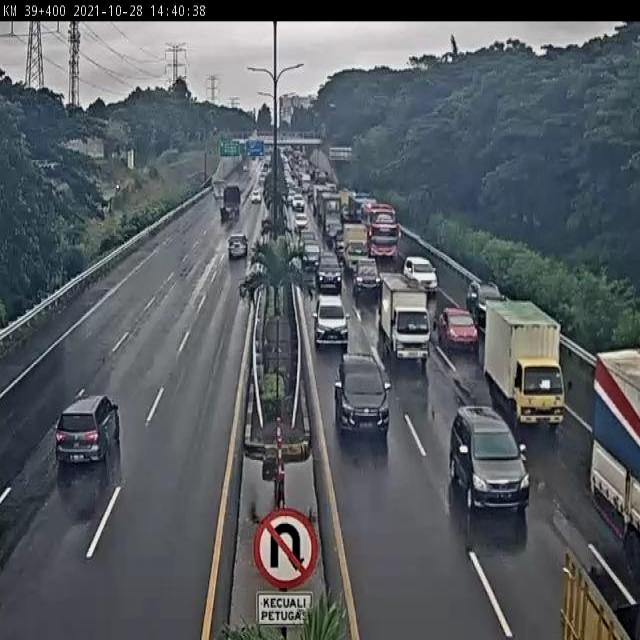Bus: (364, 203, 400, 264)
Car: (449, 406, 530, 514), (333, 352, 391, 440), (55, 393, 122, 467), (313, 295, 349, 349), (438, 306, 478, 354), (466, 280, 503, 328), (403, 255, 439, 293), (353, 260, 382, 299), (316, 256, 343, 294), (300, 239, 322, 274), (228, 233, 248, 259), (325, 220, 342, 248), (294, 211, 308, 230), (291, 193, 305, 211), (286, 191, 296, 208), (250, 189, 262, 203)
Truck: (482, 299, 564, 427), (378, 271, 430, 367), (342, 223, 368, 272)
